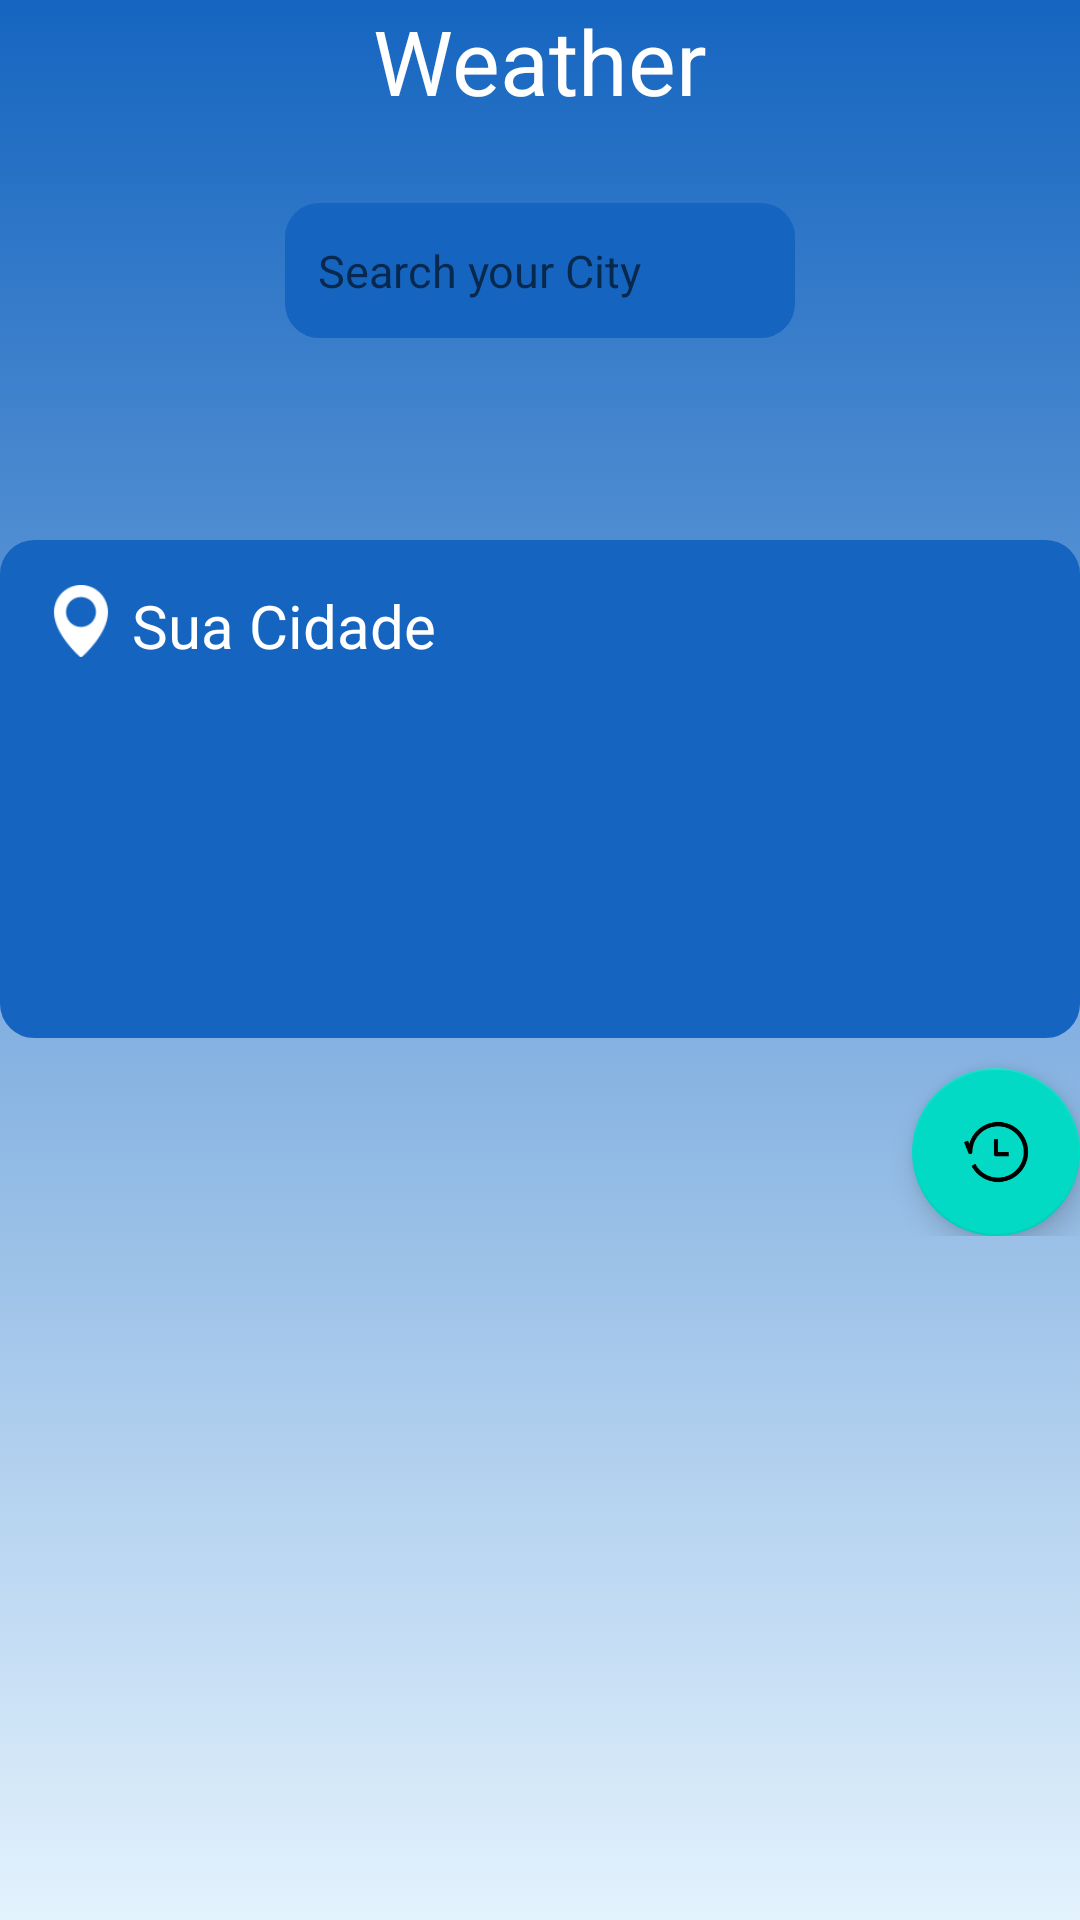

Named icons in this screenshot (1080px×1920px) and their bounding boxes, (x1, y1, x2, y2):
location: (54, 585, 108, 657)
recente: (912, 1068, 1080, 1236)
